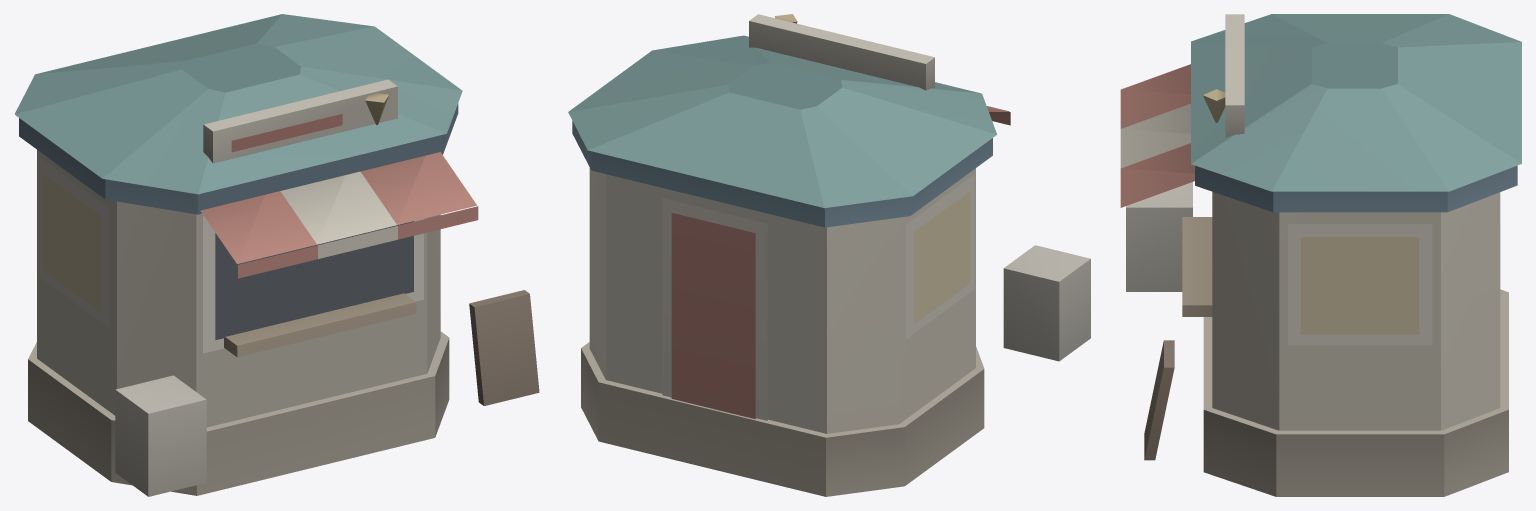
Rendered from kiosk.lod2.glb.
3 renders of one model, left to right at view 1: azimuth 30°, elevation 25°; view 2: azimuth 150°, elevation 25°; view 3: azimuth 270°, elevation 25°, orthographic. The views are drawn at different scales.
Bounding box in the file's own units: 4.33 × 3.62 × 3.74.
